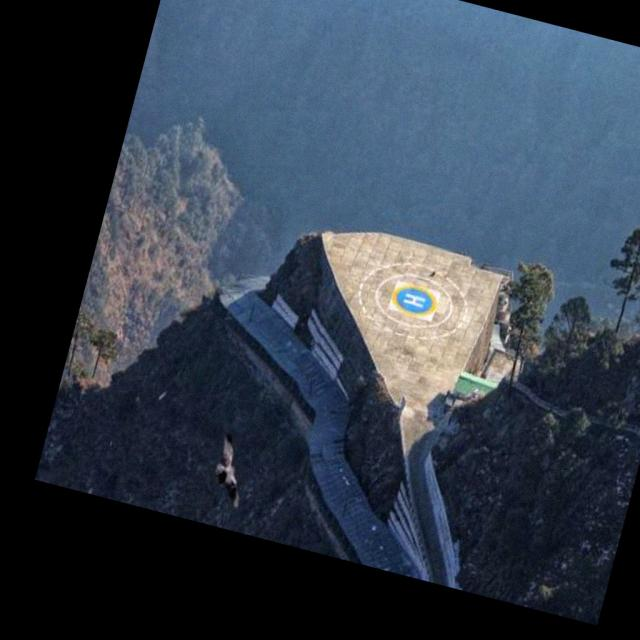helipad: (391, 283, 437, 316)
